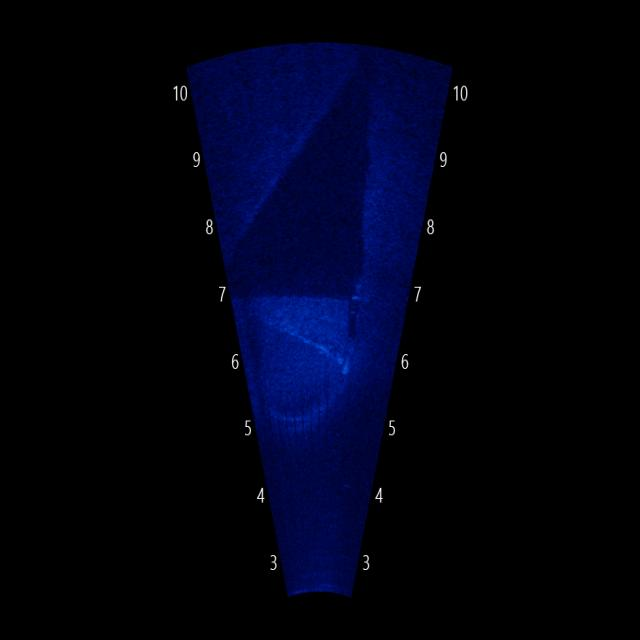triangle: (235, 268, 371, 386)
